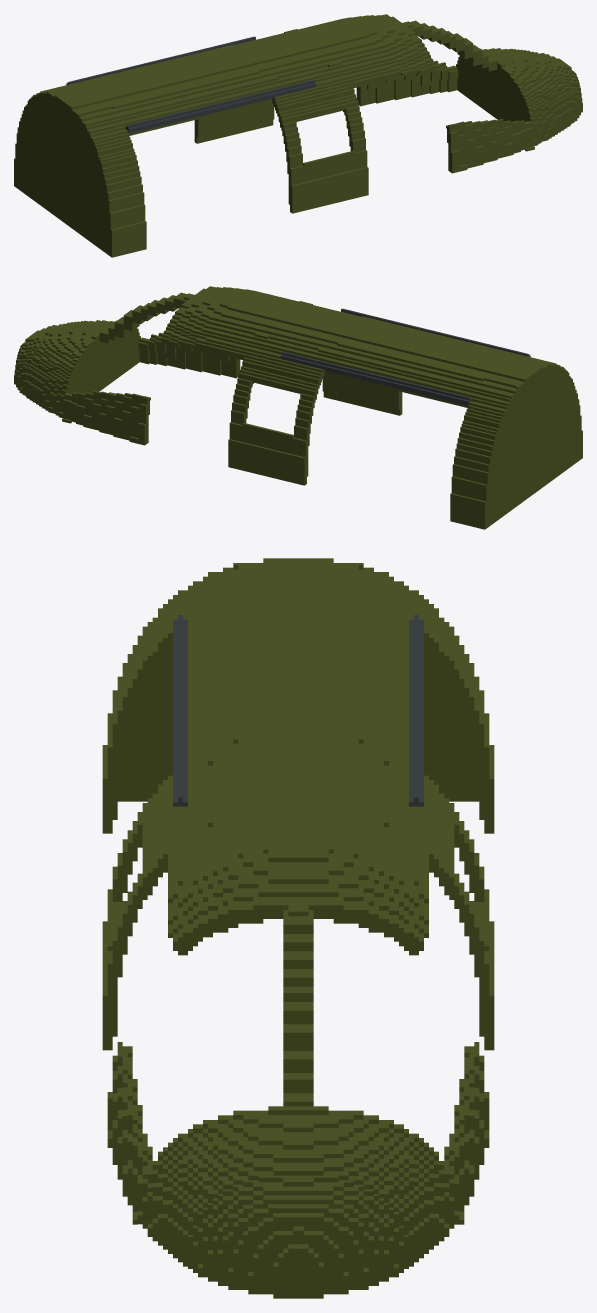
Rendered from military_transport_helicopter_roof.glb.
3 views of the same model, one above another, from view 1: azimuth 30°, elevation 25°; view 2: azimuth 150°, elevation 25°; view 3: azimuth 270°, elevation 25° (orthographic). The views are drawn at different scales.
Visible parts, largest first — view 1: body:compound; view 2: body:compound; view 3: body:compound.
Boxes of the visible parts, x1,y1,x2,y2 form: body:compound: [14, 14, 582, 257]; body:compound: [14, 286, 582, 529]; body:compound: [102, 558, 494, 1298].
Bounding box in the file's own units: 7.34 × 1.69 × 2.44.
